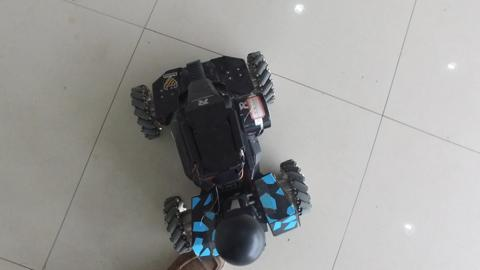chariot: (113, 35, 320, 253)
